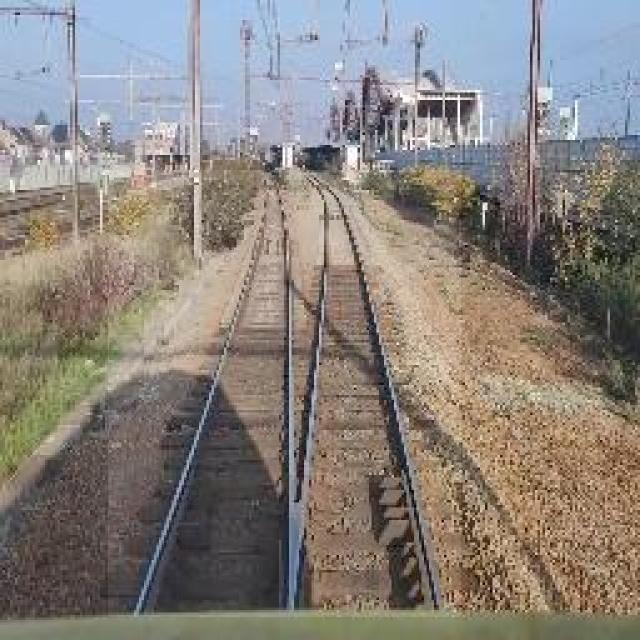rail: (109, 171, 462, 618)
